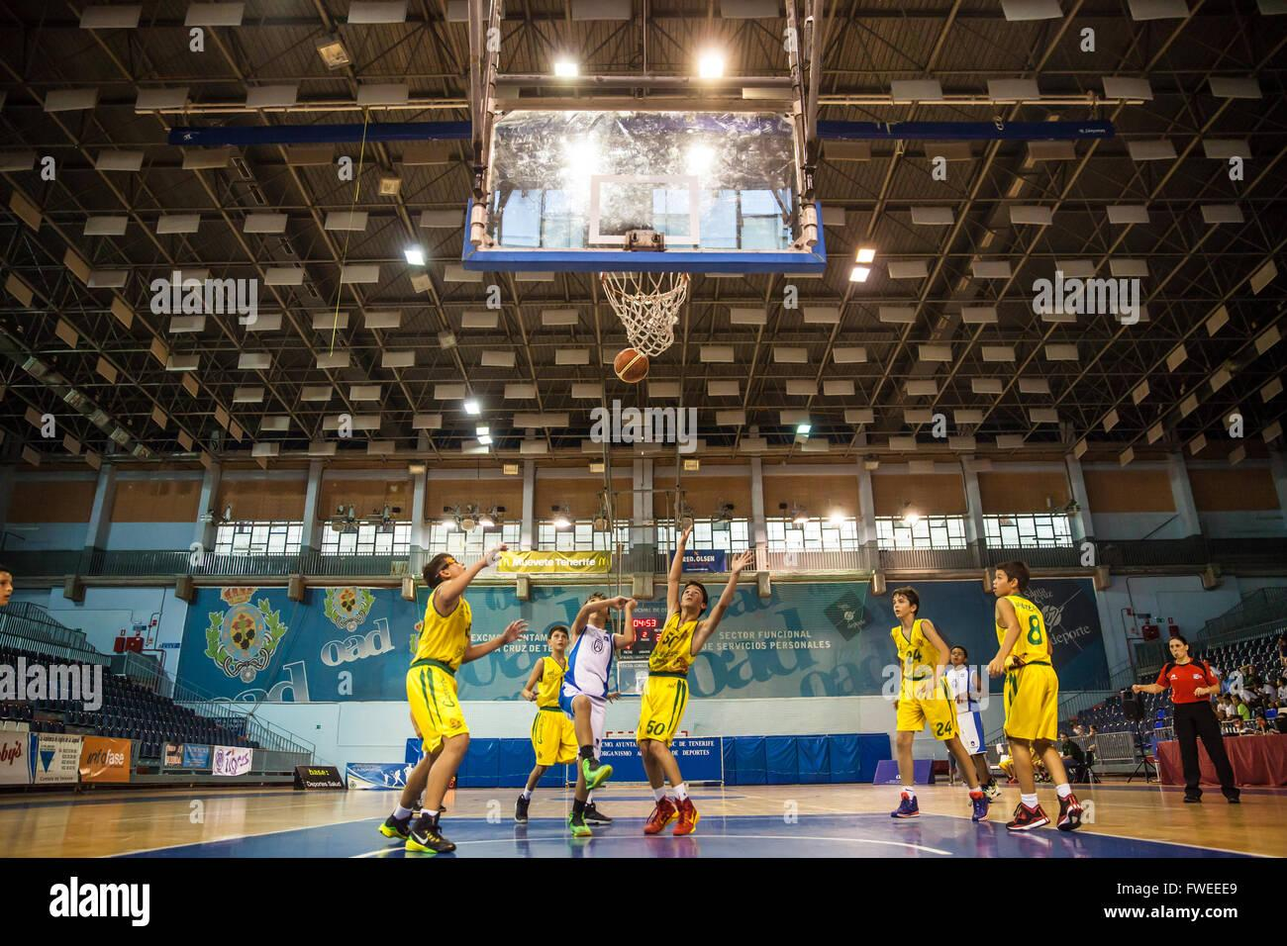basketball: (612, 348, 652, 393)
